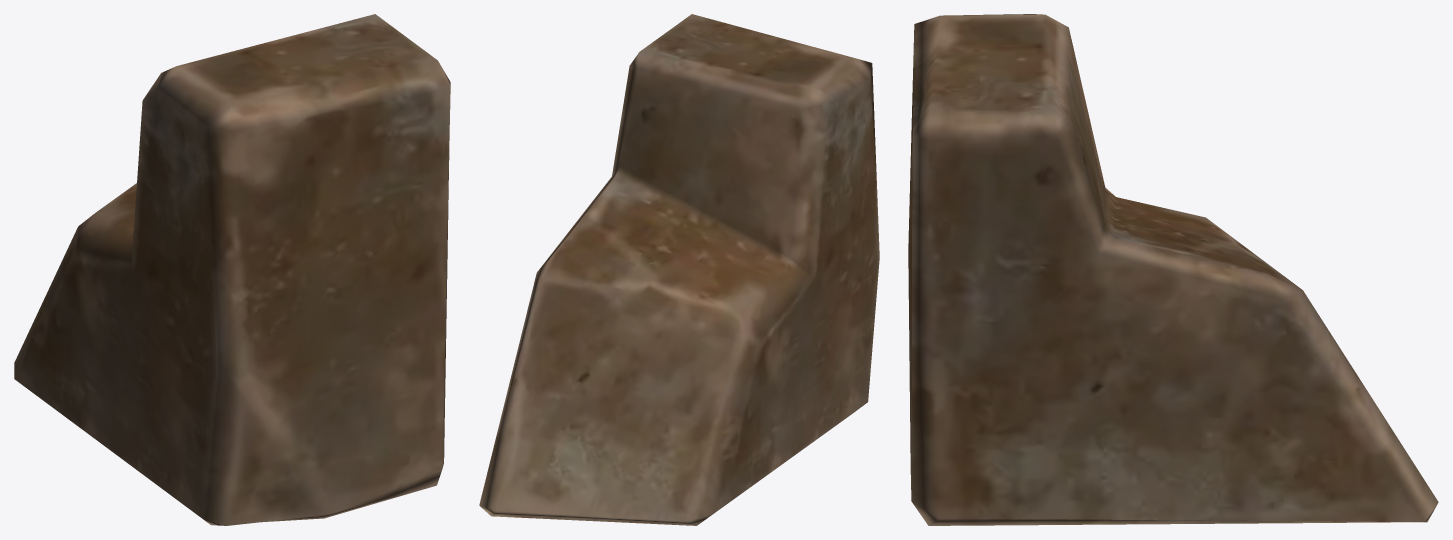
The picture shows the model from 3 angles, left to right: view 1: azimuth 30°, elevation 25°; view 2: azimuth 150°, elevation 25°; view 3: azimuth 270°, elevation 25°; orthographic projection. The views are drawn at different scales.
Parts seen in each view (by area): view 1: SM_DK_Brick_04_LOD0; view 2: SM_DK_Brick_04_LOD0; view 3: SM_DK_Brick_04_LOD0.
Boxes of the visible parts, x1,y1,x2,y2 form: SM_DK_Brick_04_LOD0: (14,14,450,525); SM_DK_Brick_04_LOD0: (479,14,879,525); SM_DK_Brick_04_LOD0: (908,14,1438,525).
Size of the model in its own units: 0.7817 by 1.33 by 1.53.
Materials: 1 (1 with a texture image).
